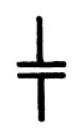Capacitor: (12, 37, 71, 90)
